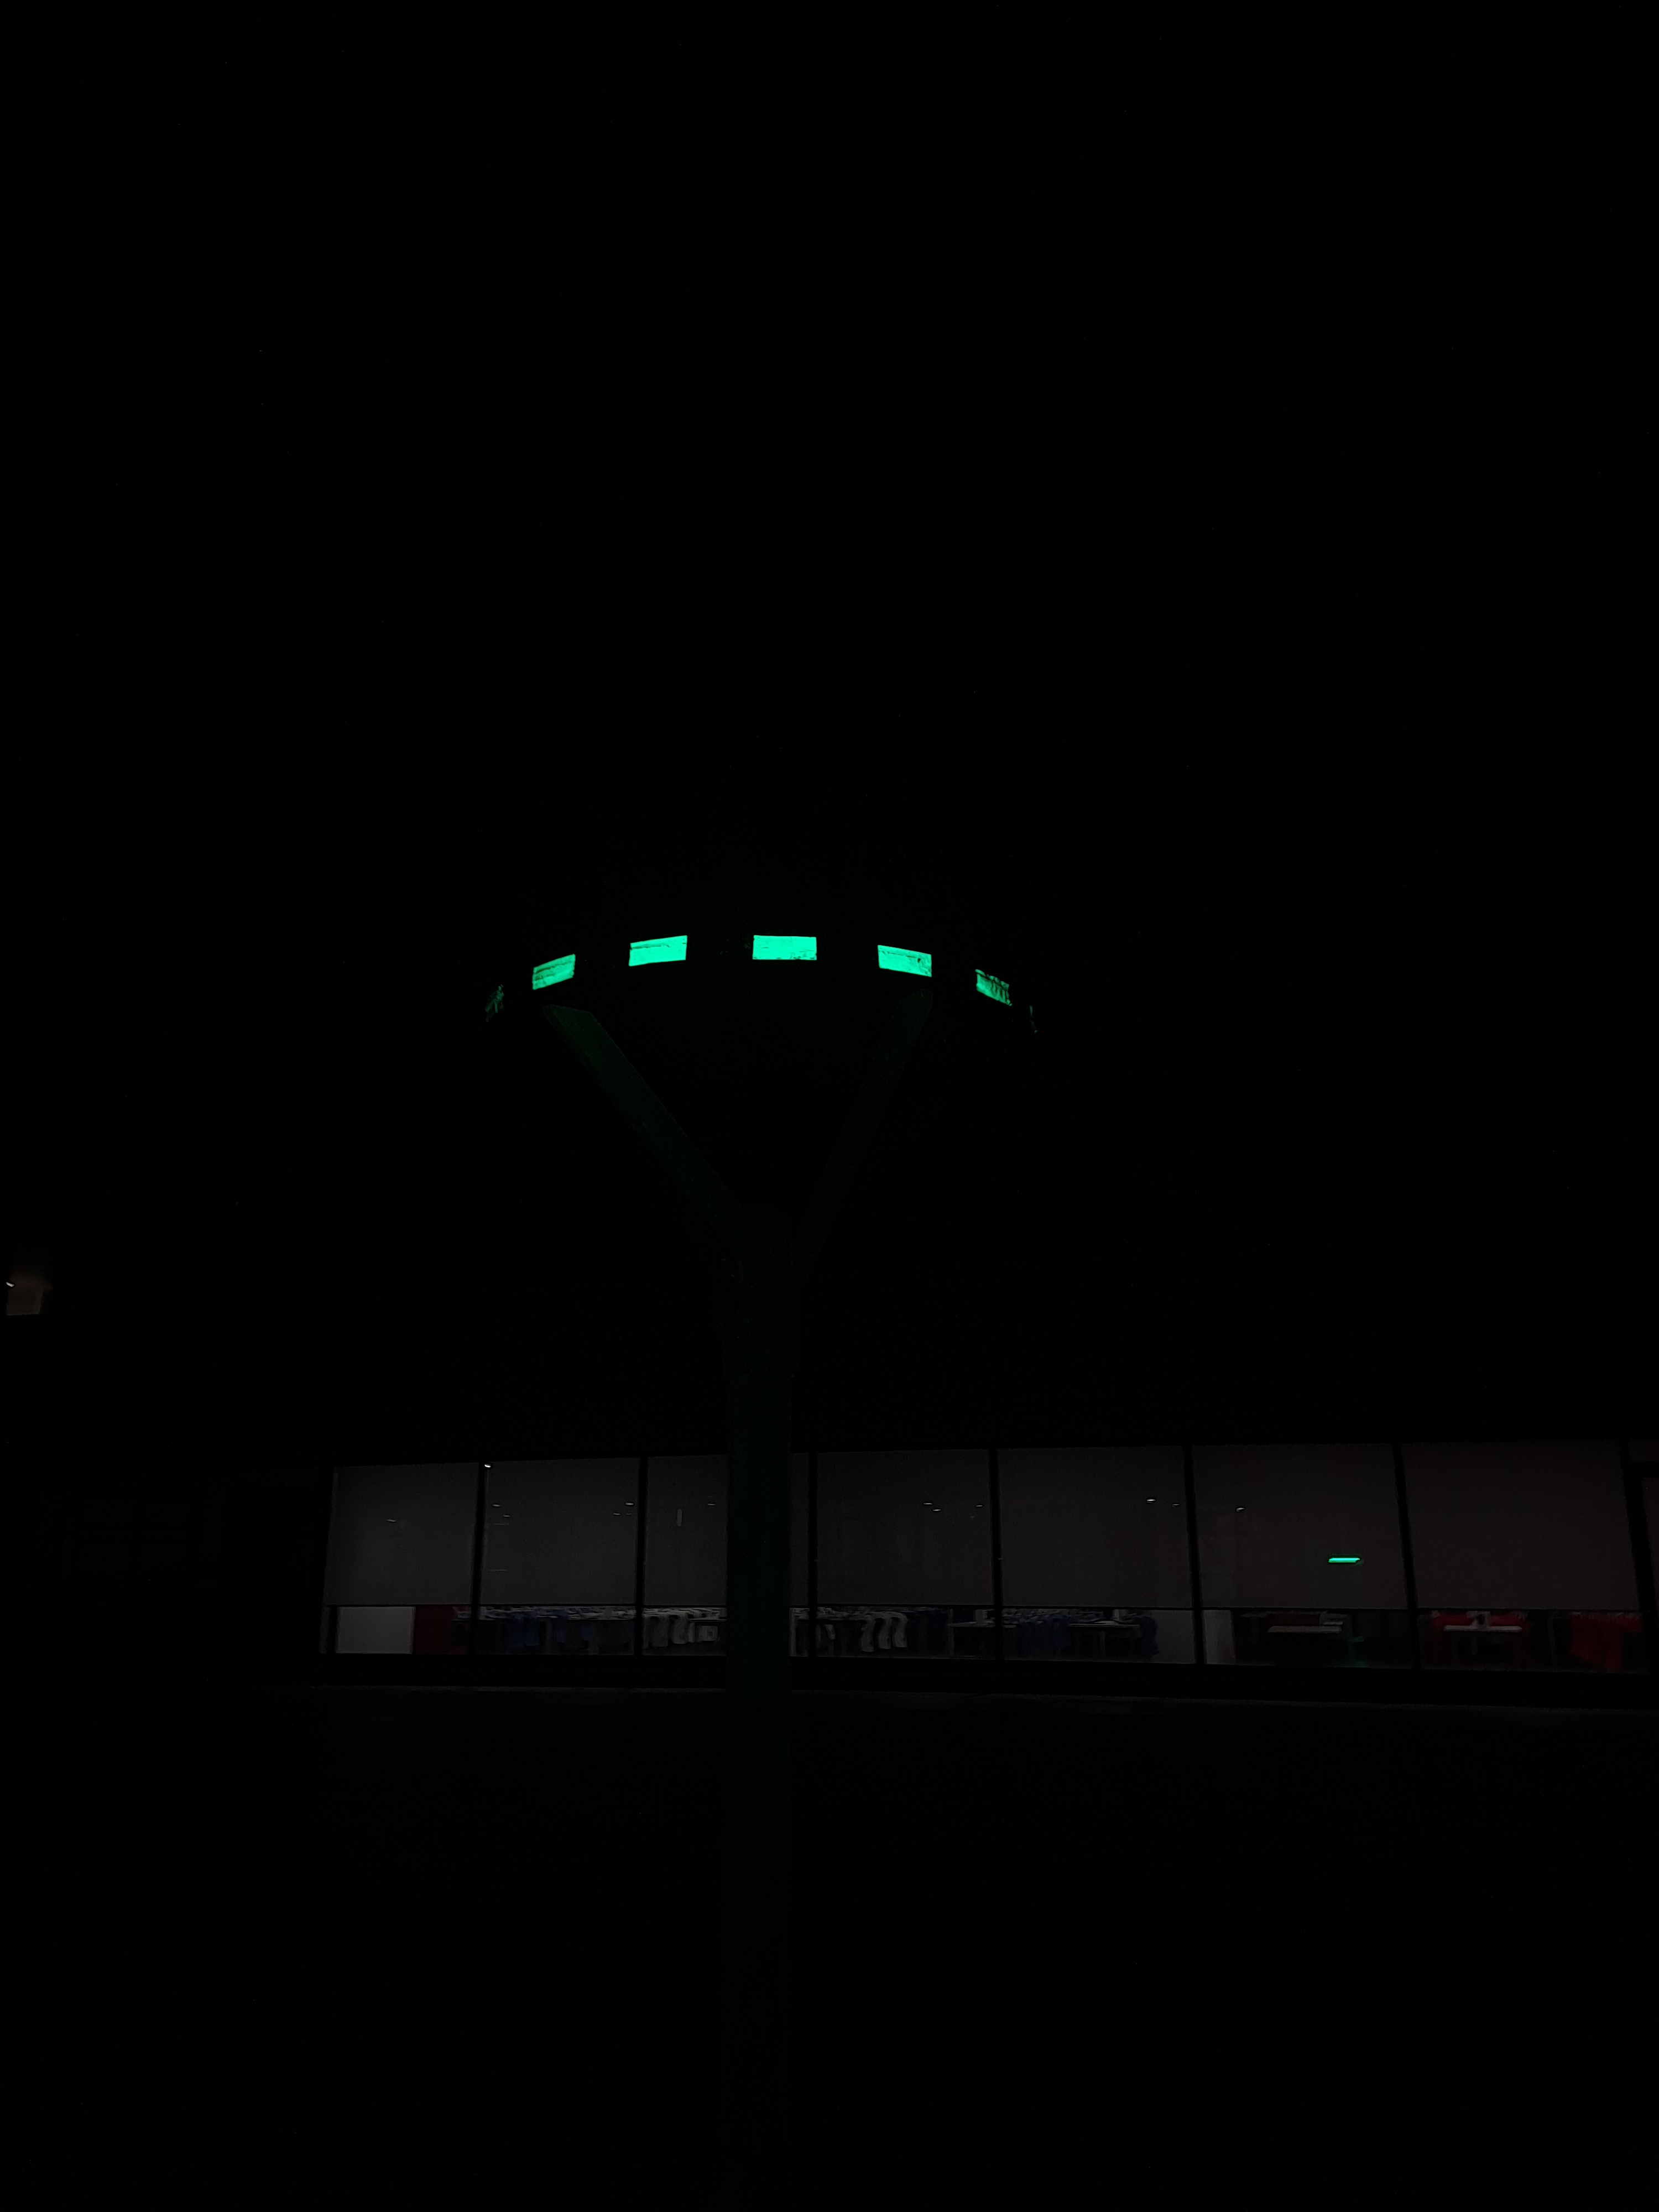hoop: (526, 928, 1014, 1014)
